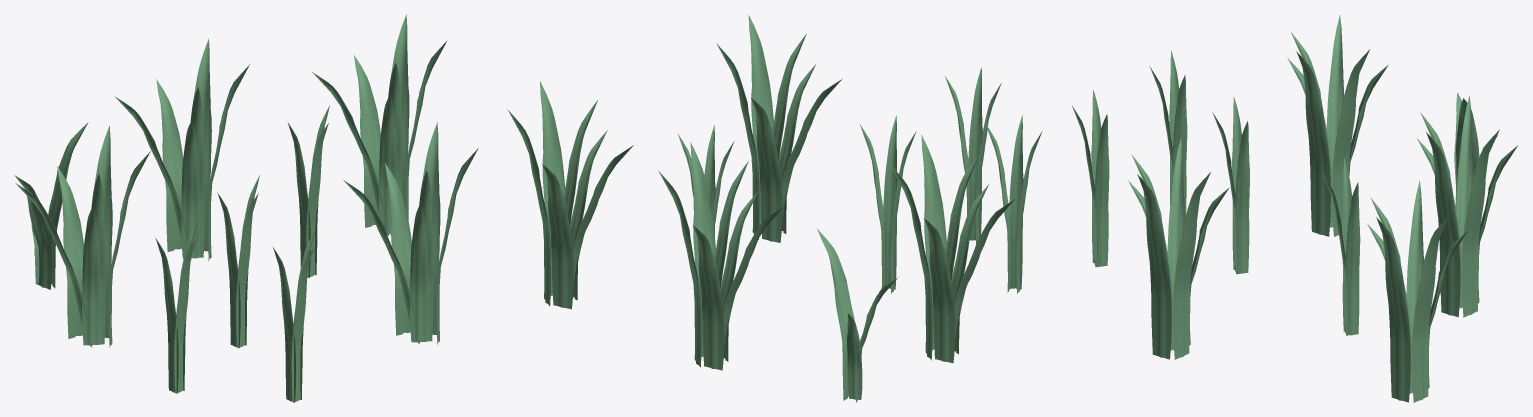
Rendered from grass3.fbx.
3 renders of one model, left to right at view 1: azimuth 30°, elevation 25°; view 2: azimuth 150°, elevation 25°; view 3: azimuth 270°, elevation 25°, orthographic.
Visible parts, largest first — view 1: grass, grass42, grass19, grass20, grass41, grass30, grass4, grass29, grass2, grass40, grass24, grass28 (+24 smaller); view 2: grass42, grass, grass30, grass19, grass37, grass3, grass17, grass22, grass25, grass14, grass8, grass35 (+25 smaller); view 3: grass22, grass25, grass37, grass3, grass24, grass2, grass28, grass40, grass15, grass34, grass31, grass38 (+20 smaller).
Boxes of the visible parts, bbox=[...] form: grass: bbox=[156, 79, 183, 251]; grass42: bbox=[57, 166, 83, 338]; grass19: bbox=[385, 163, 411, 335]; grass20: bbox=[409, 203, 427, 342]; grass41: bbox=[82, 206, 99, 345]; grass30: bbox=[354, 55, 380, 227]; grass4: bbox=[181, 119, 198, 258]; grass29: bbox=[378, 95, 396, 234]; grass2: bbox=[190, 38, 211, 251]; grass40: bbox=[91, 126, 112, 337]; grass24: bbox=[419, 122, 440, 334]; grass28: bbox=[388, 14, 409, 207]; grass42: bbox=[923, 218, 955, 363]; grass: bbox=[692, 225, 724, 370]; grass30: bbox=[542, 164, 573, 309]; grass19: bbox=[751, 98, 782, 242]; grass37: bbox=[921, 134, 946, 349]; grass3: bbox=[690, 142, 715, 356]; grass17: bbox=[1009, 115, 1023, 289]; grass22: bbox=[748, 15, 773, 224]; grass25: bbox=[540, 81, 565, 295]; grass14: bbox=[883, 115, 897, 289]; grass8: bbox=[817, 229, 854, 400]; grass35: bbox=[968, 67, 982, 240]; grass22: bbox=[1137, 174, 1171, 359]; grass25: bbox=[1376, 217, 1410, 402]; grass37: bbox=[1296, 51, 1330, 236]; grass3: bbox=[1426, 132, 1460, 317]; grass24: bbox=[1173, 172, 1210, 359]; grass2: bbox=[1461, 129, 1499, 317]; grass28: bbox=[1412, 215, 1449, 402]; grass40: bbox=[1332, 49, 1369, 236]; grass15: bbox=[1234, 121, 1249, 274]; grass34: bbox=[1094, 114, 1109, 267]; grass31: bbox=[1345, 182, 1360, 335]; grass38: bbox=[1326, 15, 1343, 227].
Bounding box in the file's own units: 10.04 × 4.18 × 8.54.
